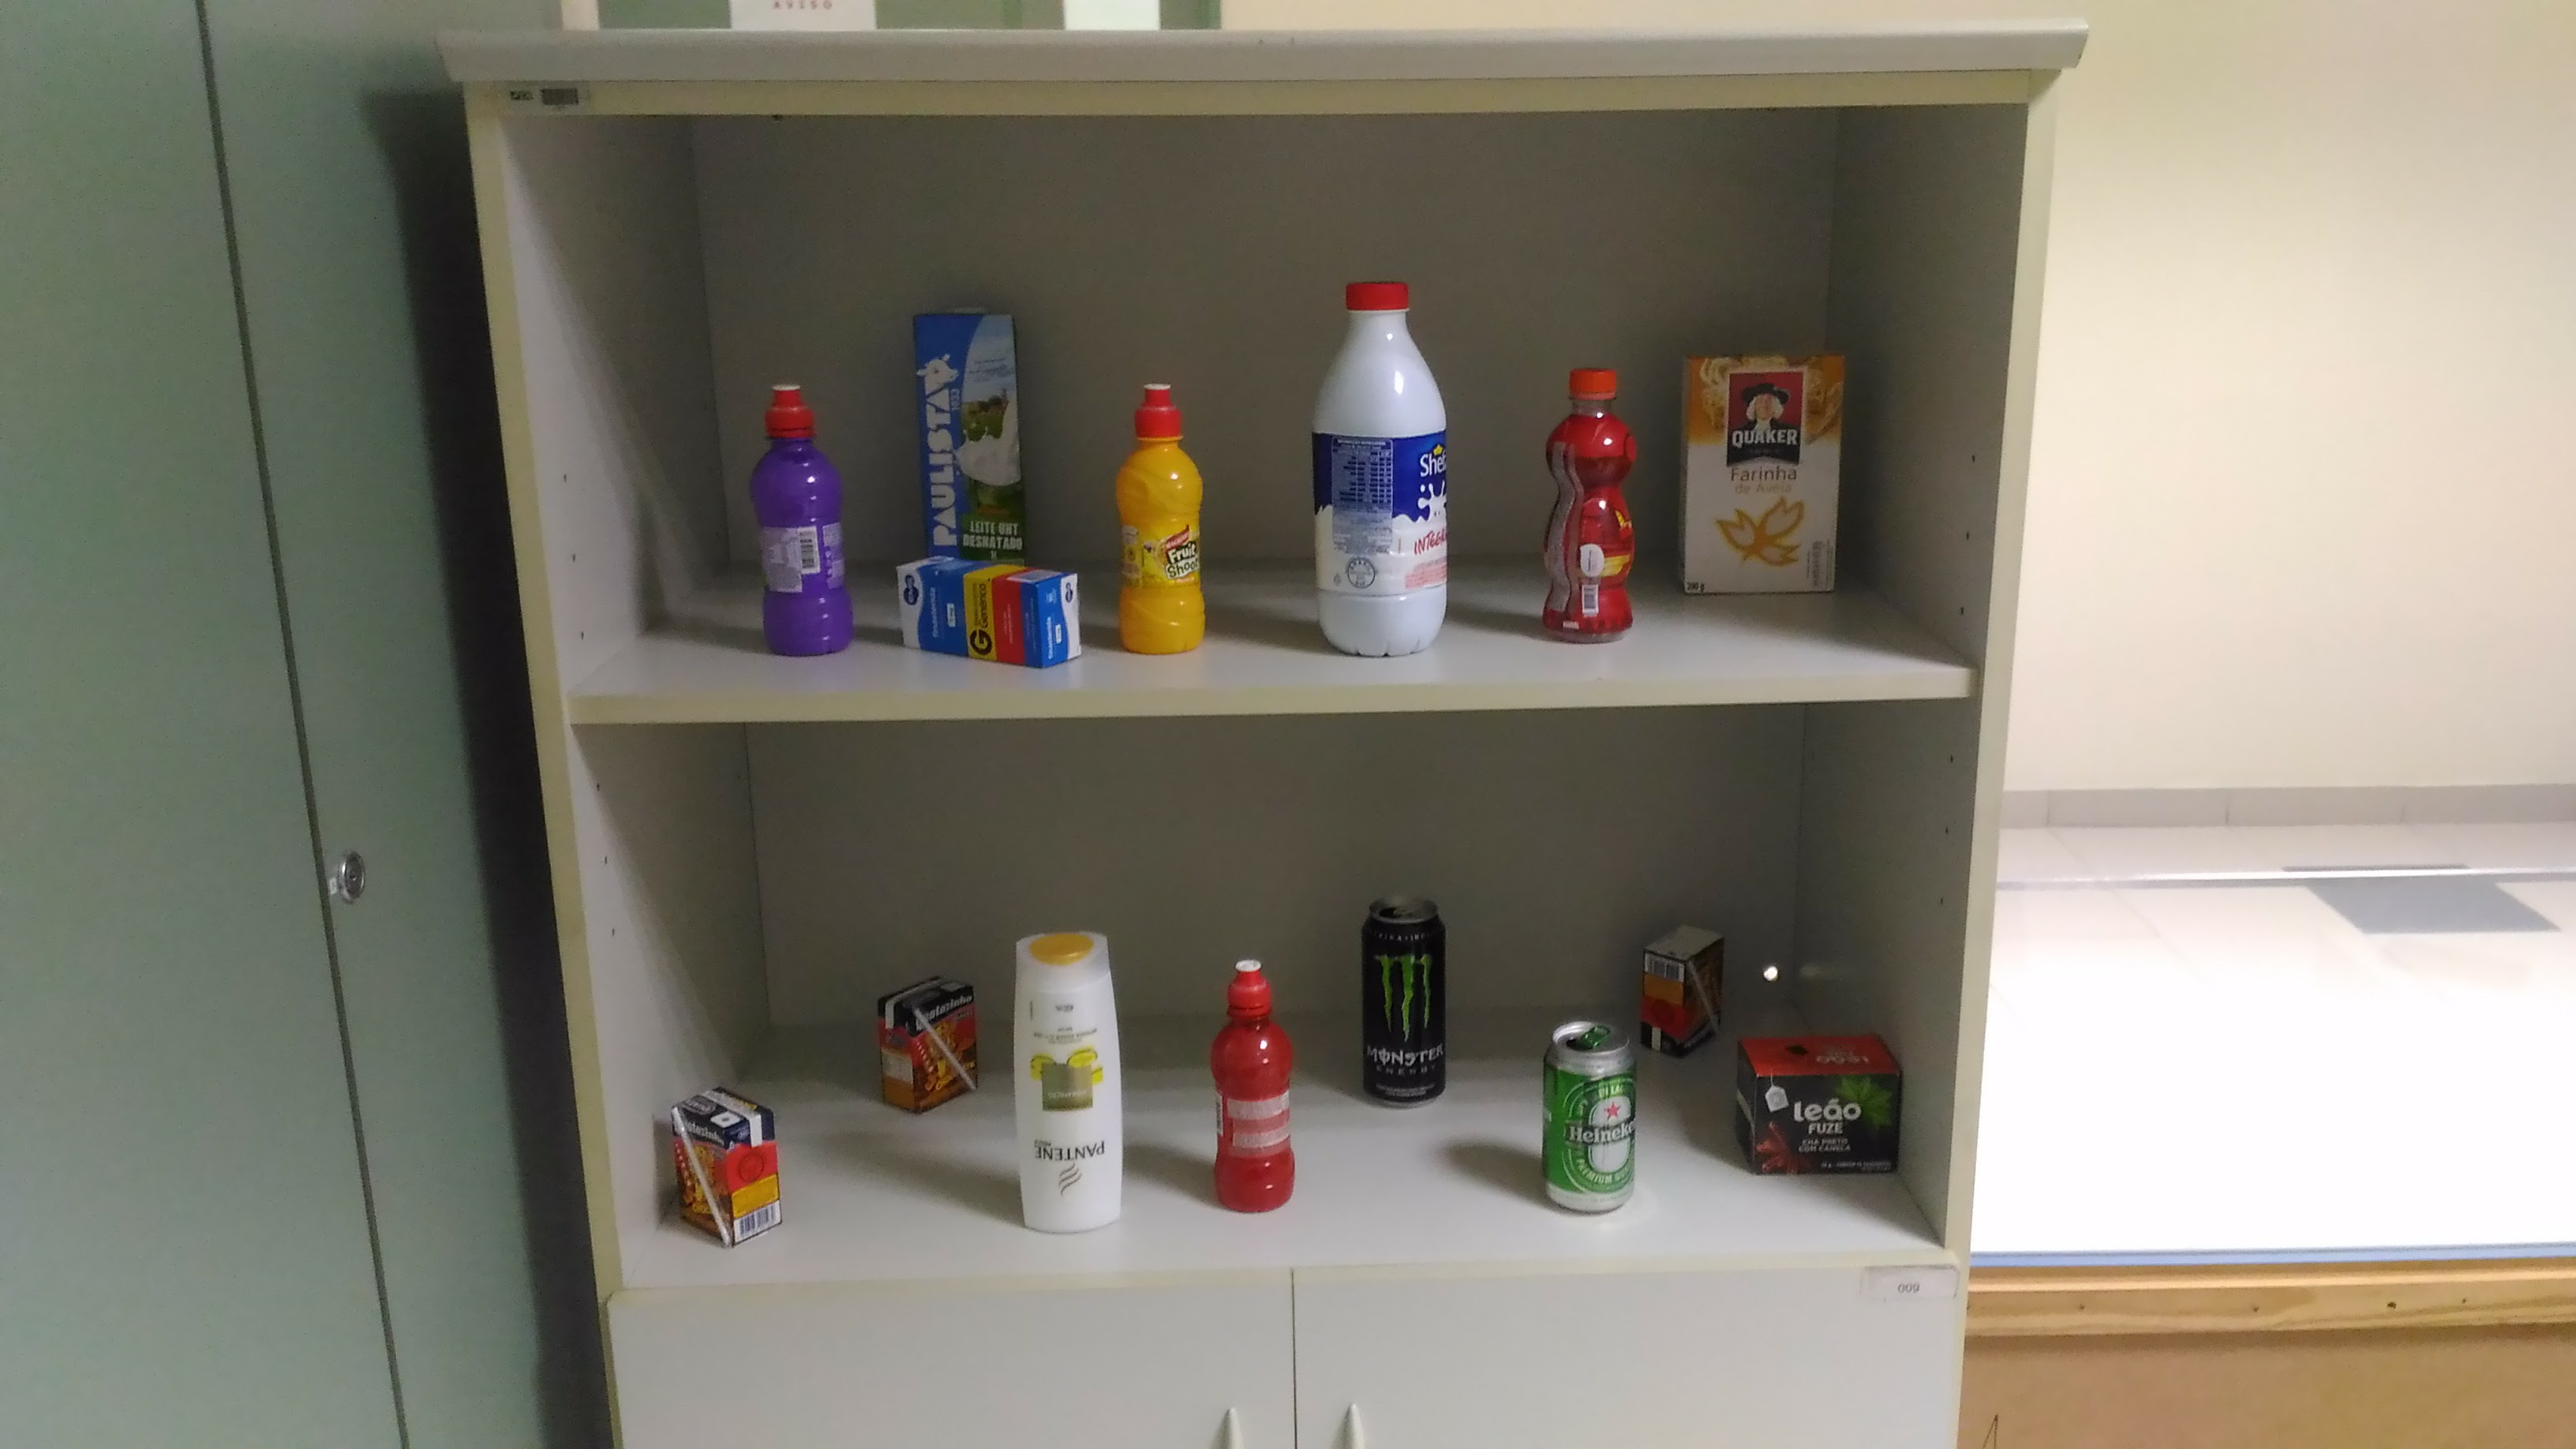cereal: (1674, 348, 1843, 599)
chocolate_milk: (665, 1075, 789, 1252), (871, 968, 983, 1112), (1634, 917, 1724, 1061)
heineken: (1539, 1008, 1638, 1219)
iron_man: (1533, 359, 1649, 650)
medicine: (890, 556, 1088, 675)
milk_bottle: (1305, 269, 1460, 661)
milk_box: (904, 300, 1043, 554)
monster: (1356, 892, 1451, 1101)
purple_juice: (741, 371, 865, 664)
red_juice: (1206, 960, 1299, 1219)
shampoo: (1006, 929, 1133, 1239)
tea_box: (1722, 1024, 1911, 1180)
yellow_juice: (1107, 376, 1209, 658)
